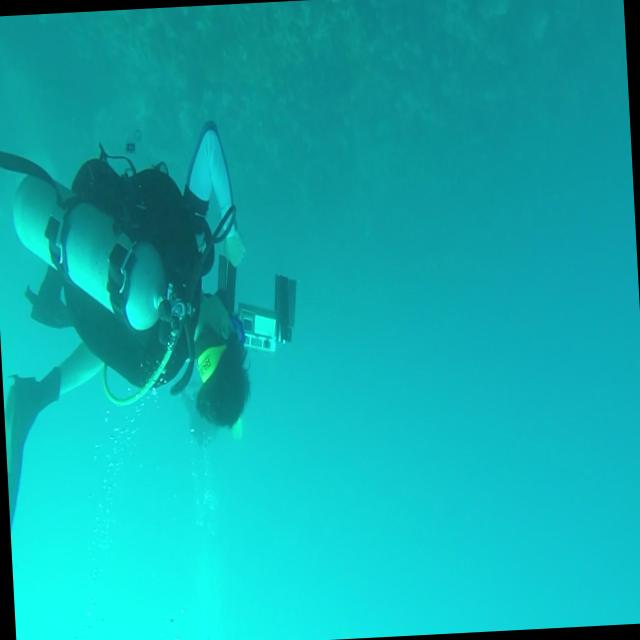human: (0, 117, 309, 544)
